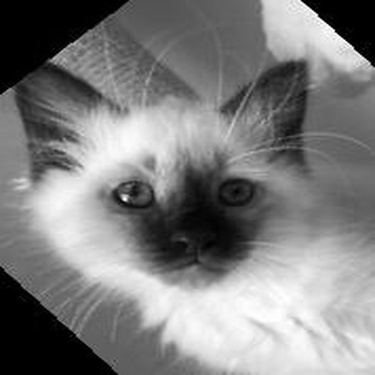cat: (9, 50, 370, 370)
